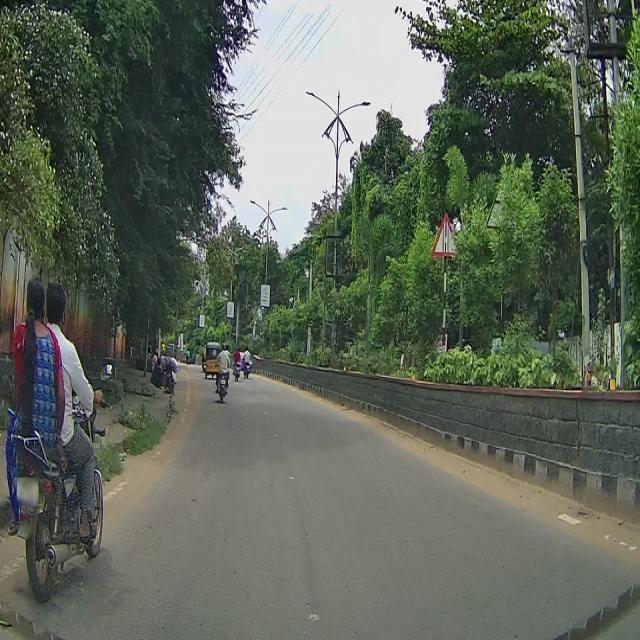gap-in-median: (432, 210, 457, 258)
